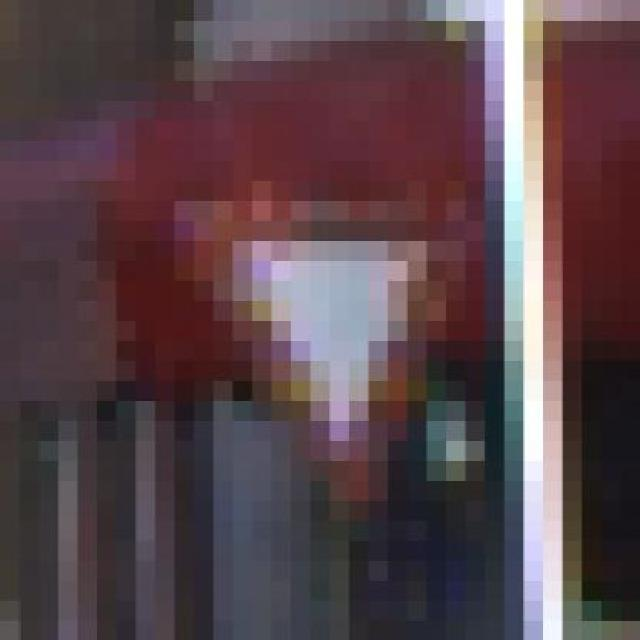Give Way: (116, 160, 544, 560)
